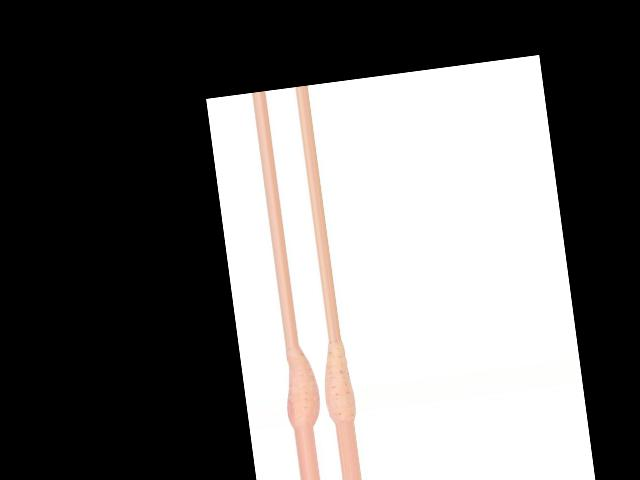sweet_potato: (318, 341, 356, 425)
